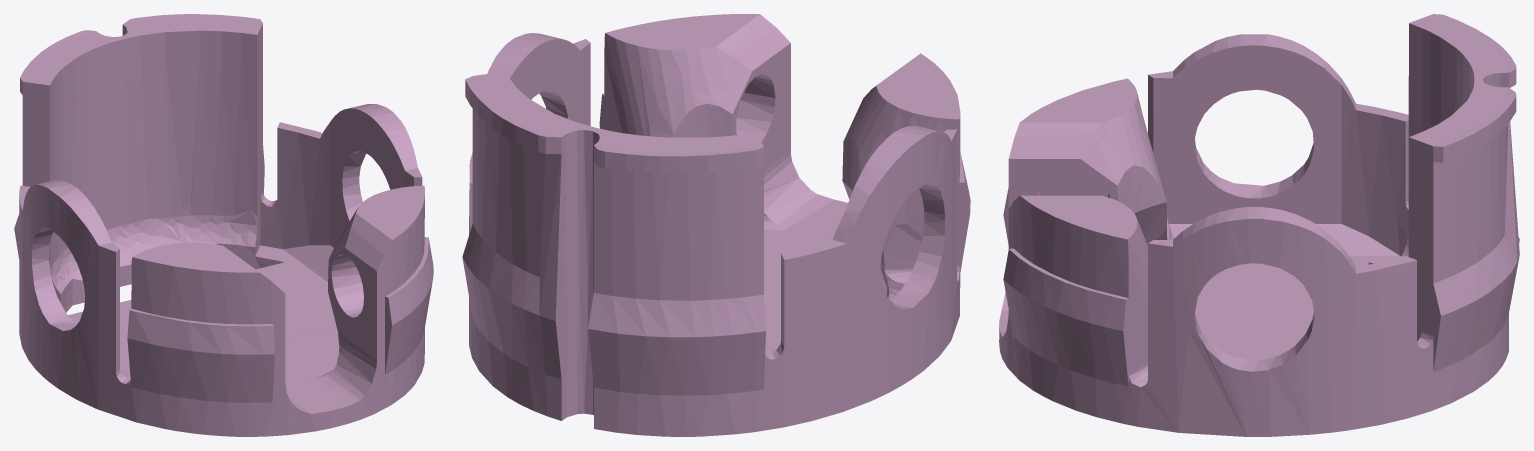
The model's file is i02_head_left_eye_vertical_visual_0.obj.full.glb.
3 renders of one model, left to right at view 1: azimuth 30°, elevation 25°; view 2: azimuth 150°, elevation 25°; view 3: azimuth 270°, elevation 25°, orthographic. The views are drawn at different scales.
Bounding box in the file's own units: 0.1896 × 0.1261 × 0.225.
